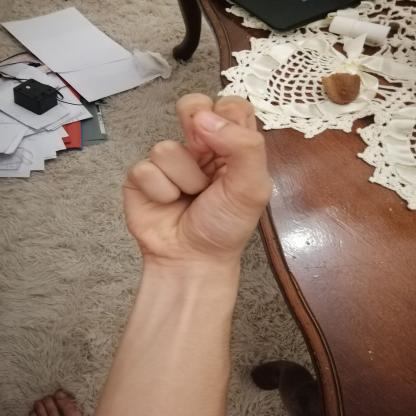QAAF: (105, 84, 282, 272)
